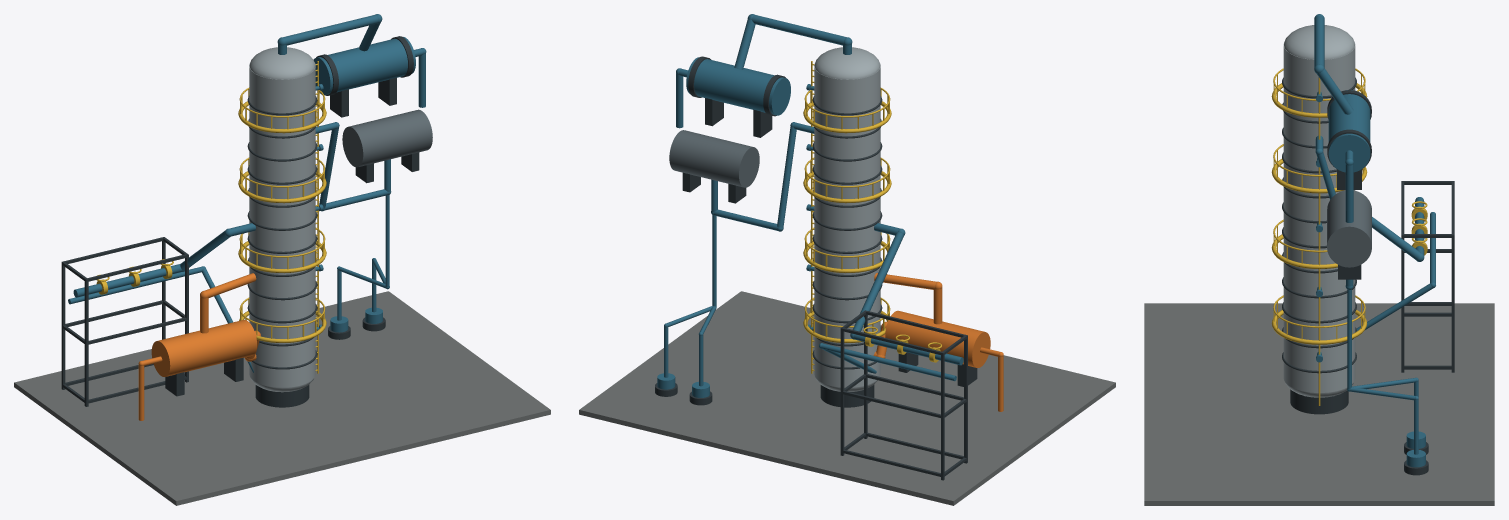
Rendered from debutanizer_column.glb.
3 views of the same model, side by side, from view 1: azimuth 30°, elevation 25°; view 2: azimuth 150°, elevation 25°; view 3: azimuth 270°, elevation 25° (orthographic). The views are drawn at different scales.
Parts seen in each view (by area): view 1: reinforced_concrete_foundation, fractionation_column_shell, kettle_reboiler, reflux_accumulator, overhead_condenser_shell, column_top_head, pipe_rack_post (×2), overhead_vapour_line_2, support_skirt, feed_main_1, utility_header_1; view 2: reinforced_concrete_foundation, fractionation_column_shell, reflux_accumulator, overhead_condenser_shell, kettle_reboiler, column_top_head, overhead_vapour_line_2, feed_main_2, utility_header_1, reflux_return_3, support_skirt, feed_main_1 (+1 smaller); view 3: reinforced_concrete_foundation, fractionation_column_shell, reflux_accumulator, overhead_condenser_shell, tray_access_platform_deck (×4), column_top_head, pipe_rack_post (×2), support_skirt, column_ladder_rail, feed_main_2, overhead_vapour_line_2, overhead_vapour_line_3 (+4 smaller).
Part boxes in pixels (x1=…): reinforced_concrete_foundation: x1=14, y1=291, x2=550, y2=505; fractionation_column_shell: x1=249, y1=62, x2=315, y2=387; kettle_reboiler: x1=151, y1=319, x2=256, y2=376; reflux_accumulator: x1=342, y1=109, x2=432, y2=167; overhead_condenser_shell: x1=313, y1=37, x2=415, y2=95; column_top_head: x1=249, y1=47, x2=315, y2=79; pipe_rack_post (×2): x1=61, y1=263, x2=88, y2=406; overhead_vapour_line_2: x1=283, y1=14, x2=378, y2=45; support_skirt: x1=255, y1=385, x2=309, y2=407; feed_main_1: x1=73, y1=264, x2=182, y2=297; utility_header_1: x1=68, y1=266, x2=203, y2=304; reinforced_concrete_foundation: x1=579, y1=291, x2=1115, y2=505; fractionation_column_shell: x1=814, y1=62, x2=880, y2=387; reflux_accumulator: x1=669, y1=130, x2=759, y2=187; overhead_condenser_shell: x1=686, y1=57, x2=790, y2=115; kettle_reboiler: x1=885, y1=310, x2=990, y2=367; column_top_head: x1=814, y1=47, x2=880, y2=79; overhead_vapour_line_2: x1=751, y1=14, x2=846, y2=45; feed_main_2: x1=852, y1=232, x2=904, y2=331; utility_header_1: x1=821, y1=343, x2=956, y2=381; reflux_return_3: x1=777, y1=126, x2=796, y2=227; support_skirt: x1=820, y1=385, x2=874, y2=407; feed_main_1: x1=853, y1=334, x2=963, y2=365; reinforced_concrete_foundation: x1=1144, y1=303, x2=1494, y2=505; fractionation_column_shell: x1=1283, y1=41, x2=1355, y2=392; reflux_accumulator: x1=1327, y1=190, x2=1371, y2=267; overhead_condenser_shell: x1=1328, y1=90, x2=1370, y2=172; tray_access_platform_deck (×4): x1=1271, y1=83, x2=1367, y2=344; column_top_head: x1=1284, y1=25, x2=1354, y2=59; pipe_rack_post (×2): x1=1401, y1=236, x2=1454, y2=372; support_skirt: x1=1290, y1=389, x2=1348, y2=414; column_ladder_rail: x1=1318, y1=77, x2=1320, y2=405; feed_main_2: x1=1372, y1=217, x2=1421, y2=259; overhead_vapour_line_2: x1=1314, y1=15, x2=1324, y2=67; overhead_vapour_line_3: x1=1317, y1=68, x2=1353, y2=114.
Size of the model in its own units: 28 by 25.95 by 21.
